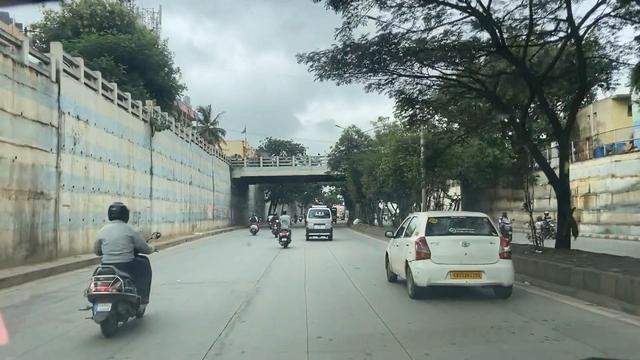LMV: (373, 201, 521, 303), (97, 194, 160, 338)
